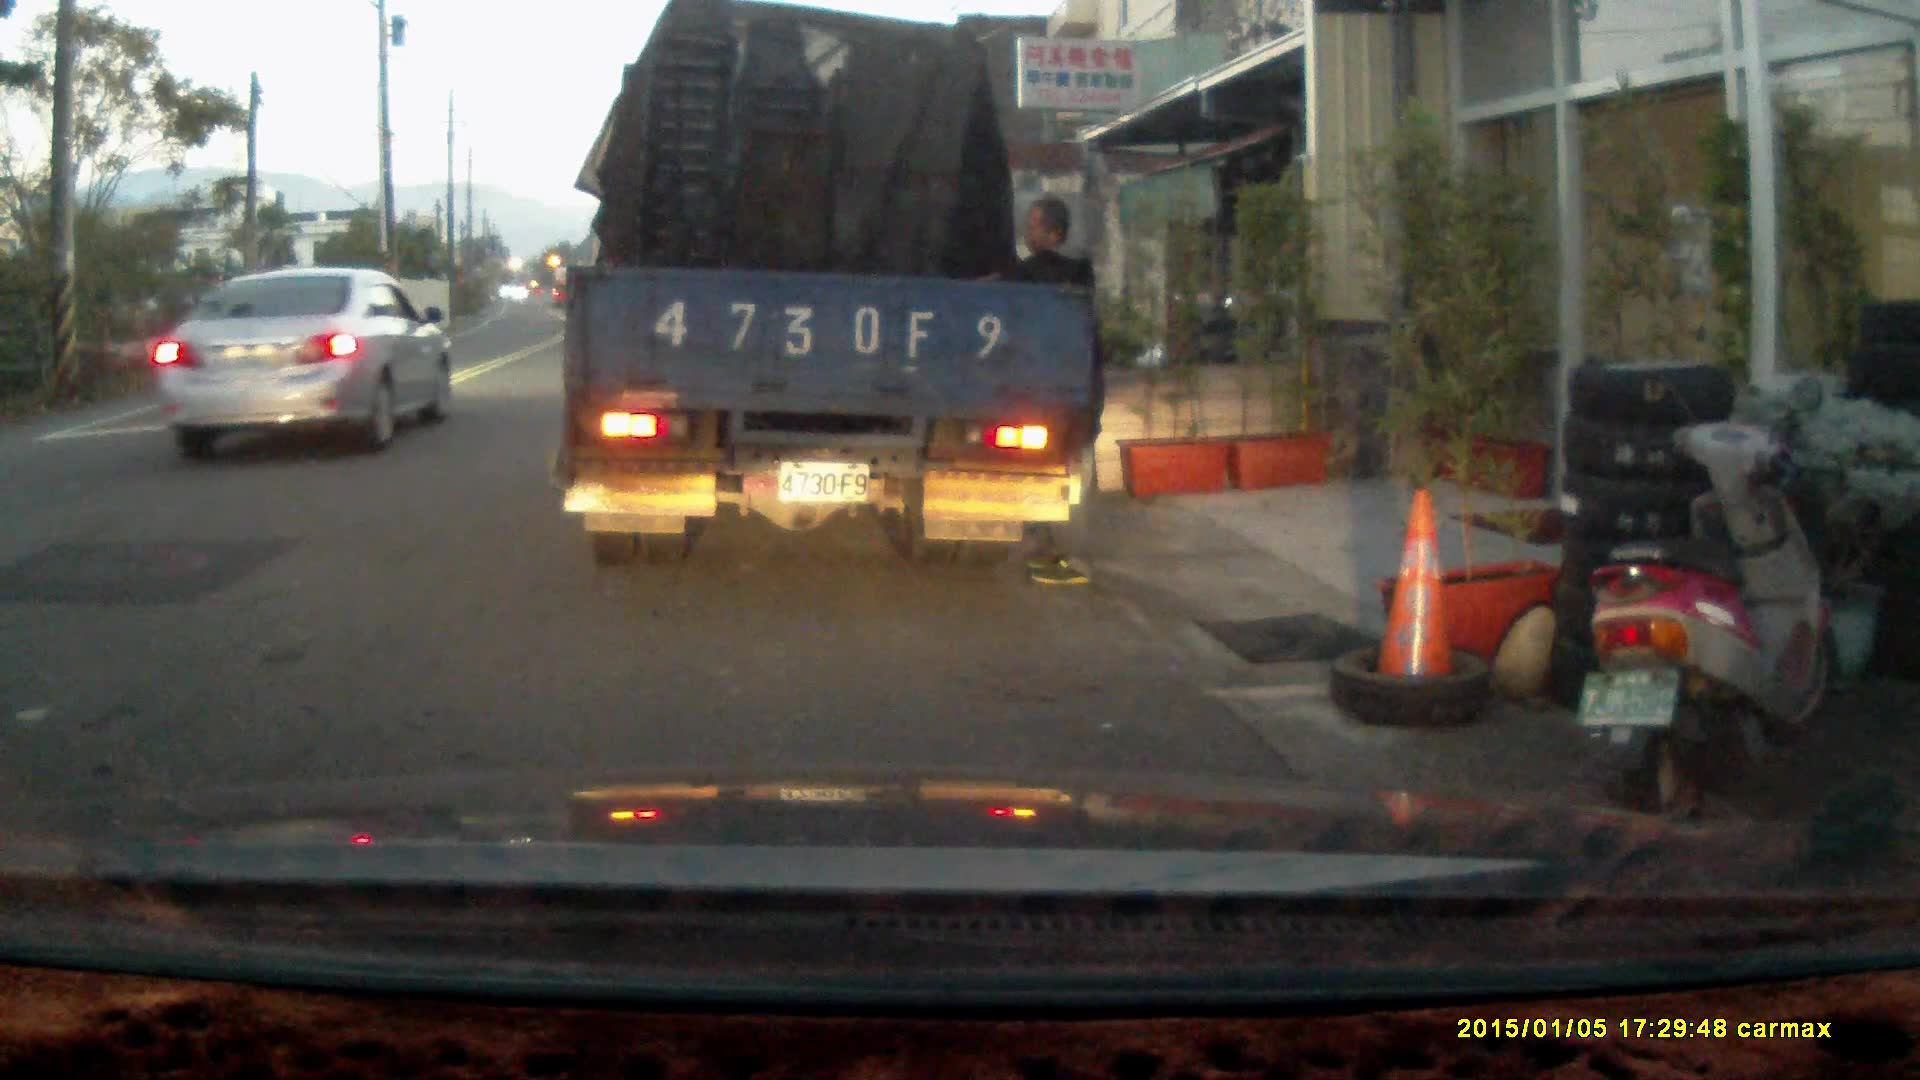pedestrian: (964, 196, 1104, 586)
vehicle: (565, 23, 1097, 572), (153, 267, 456, 462)
